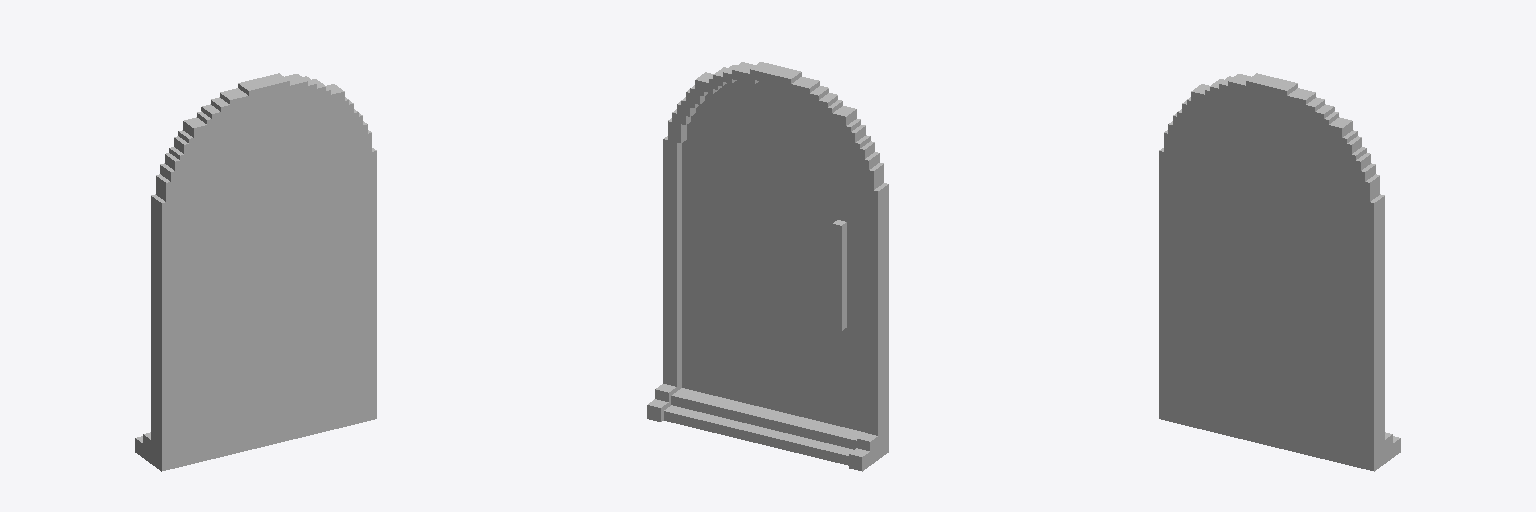
The model's file is porta_arredondada.obj.
The picture shows the model from 3 angles: view 1: azimuth 30°, elevation 25°; view 2: azimuth 150°, elevation 25°; view 3: azimuth 330°, elevation 25°; orthographic projection.
Visible parts, largest first — view 1: porta_arredondada; view 2: porta_arredondada; view 3: porta_arredondada.
Boxes of the visible parts, x1,y1,x2,y2 form: porta_arredondada: [135, 73, 376, 471]; porta_arredondada: [647, 62, 888, 471]; porta_arredondada: [1159, 73, 1400, 471].
Size of the model in its own units: 47 by 75 by 10.